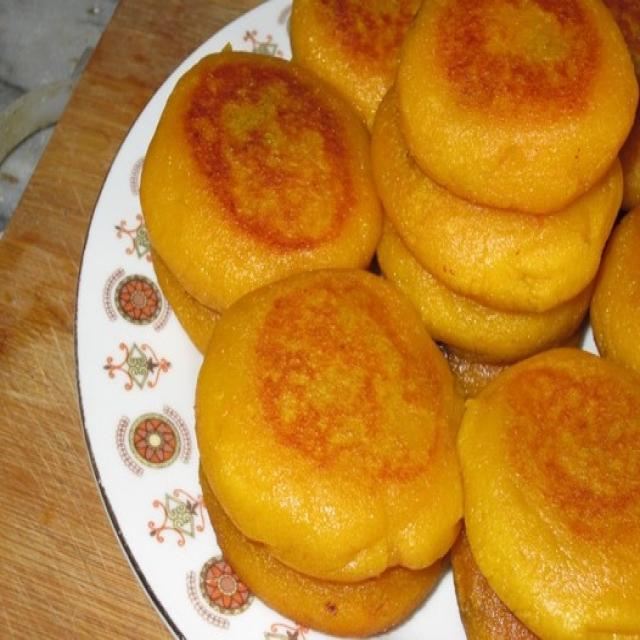炸货点心: (89, 2, 635, 632)
蛋糕甜品: (89, 2, 635, 632)
